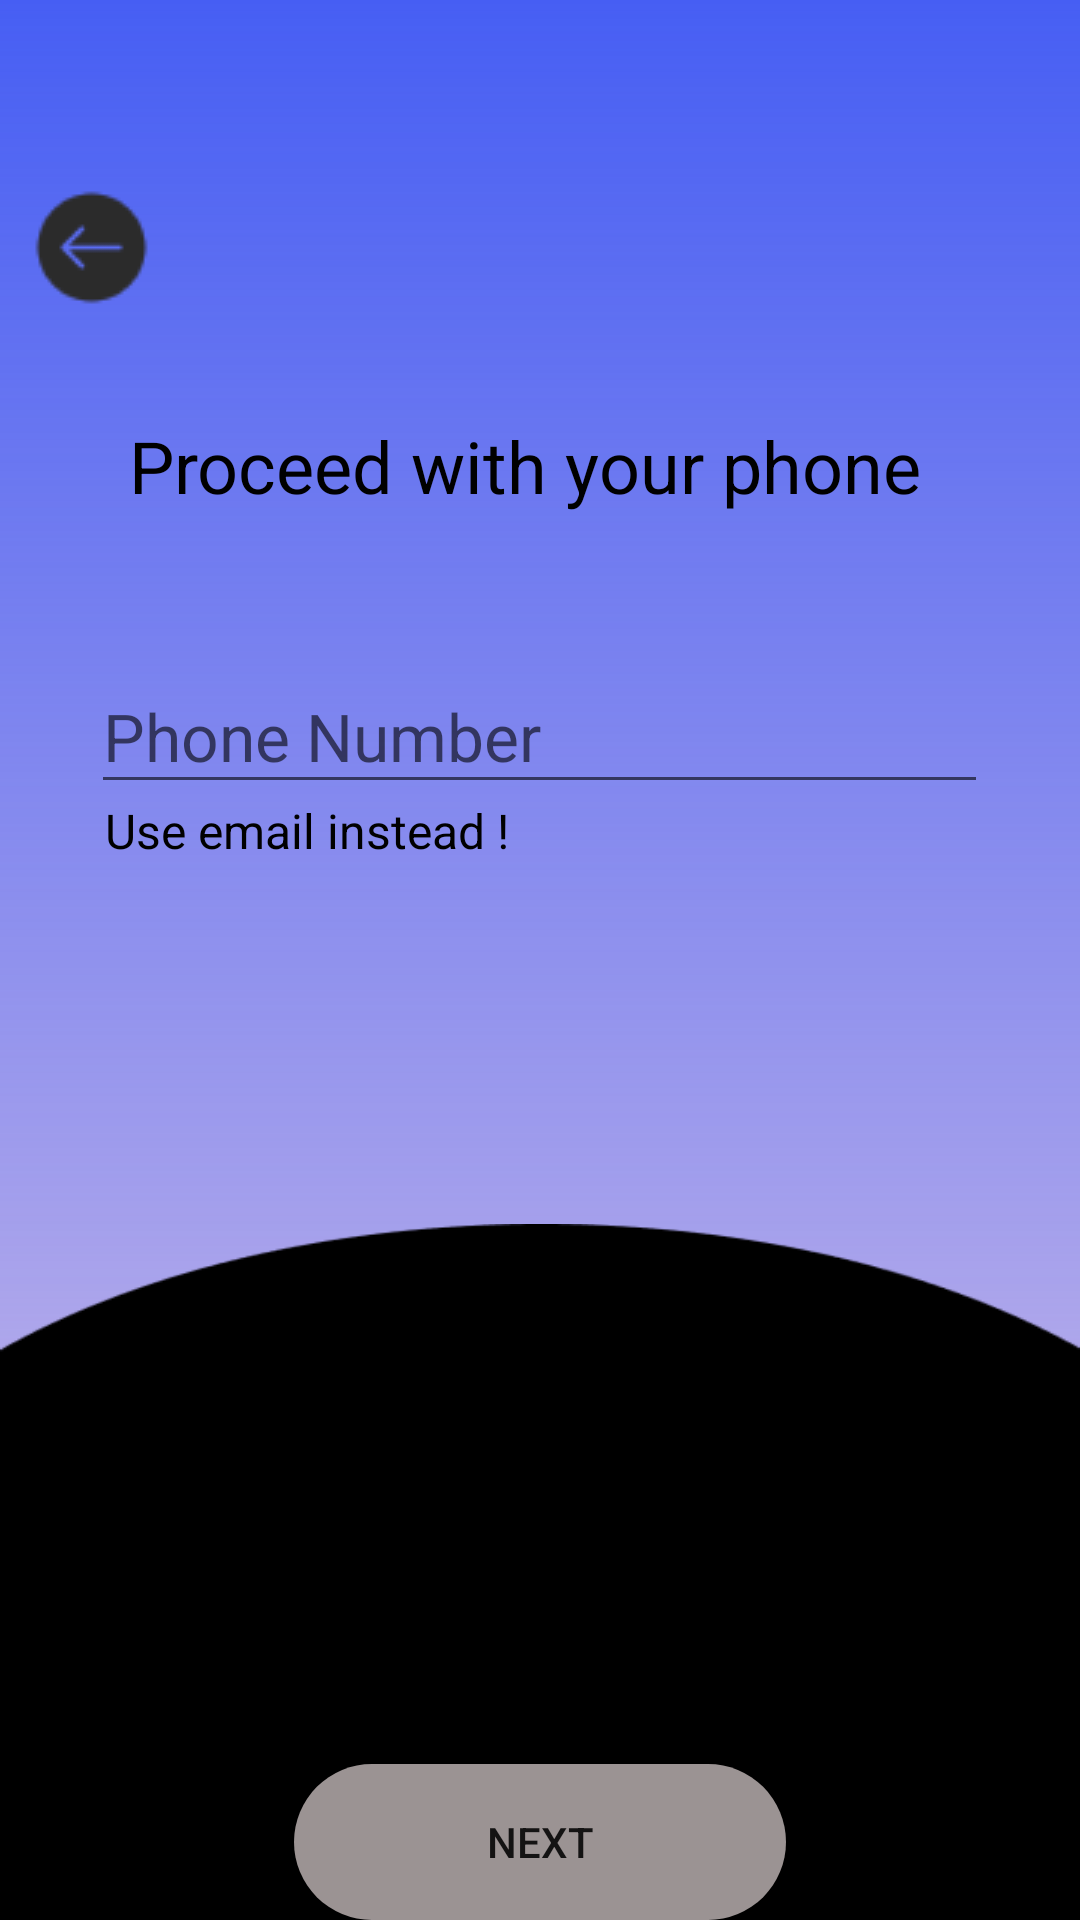

Icon bounding boxes for this 1080 × 1920 phone screenshot, format region(x1, y1, x2, y2):
back arrow ek: region(35, 191, 148, 304)
